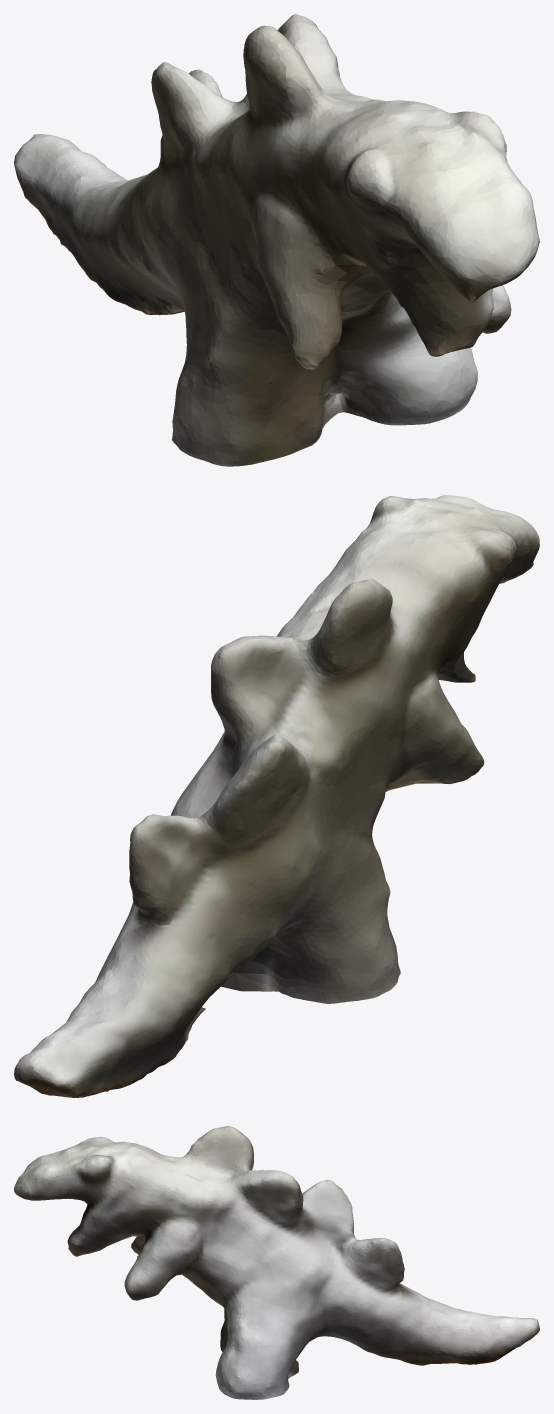
Rendered from Scaniverse 2025-01-31 181734.fbx.
3 renders of one model, top to bottom at view 1: azimuth 30°, elevation 25°; view 2: azimuth 150°, elevation 25°; view 3: azimuth 270°, elevation 25°, orthographic. The views are drawn at different scales.
Visible parts, largest first — view 1: mesh; view 2: mesh; view 3: mesh.
Part boxes in pixels (left/top/right/bottom): mesh: left=14, top=14, right=539, bottom=466; mesh: left=14, top=495, right=539, bottom=1097; mesh: left=14, top=1126, right=539, bottom=1399.
Size of the model in its own units: 0.0493 by 0.0709 by 0.1541.
1 material, 1 textured.
